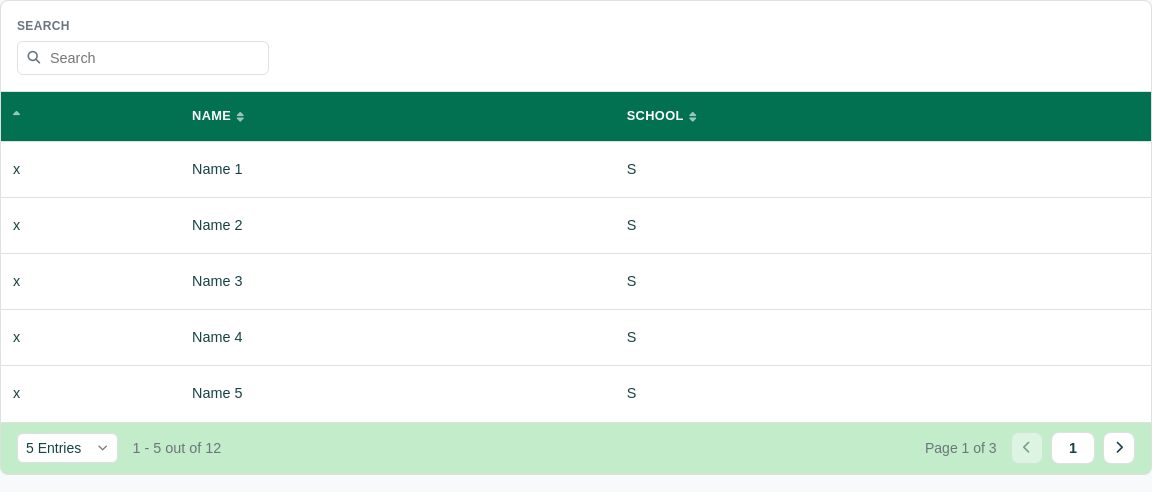
Test: the bottom bar › stays where it is on screen when a page is taller, scrolling down by as much
Click the button named "Next page". click: (1119, 448)
box: [1103, 432, 1135, 464]
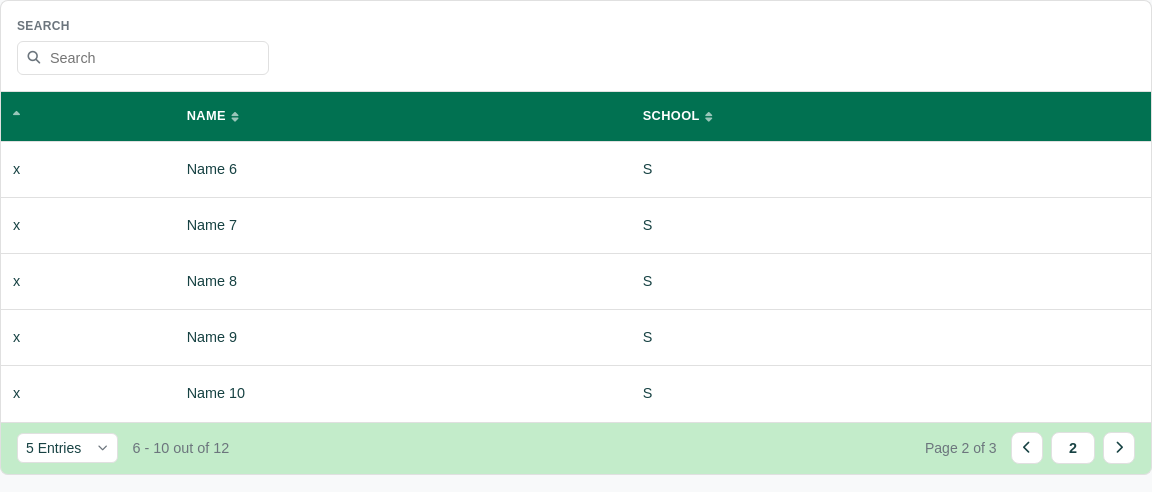
Expected: the text with class "data-table-page-info" reads "Page 2 of 3", [925, 440, 997, 456]
